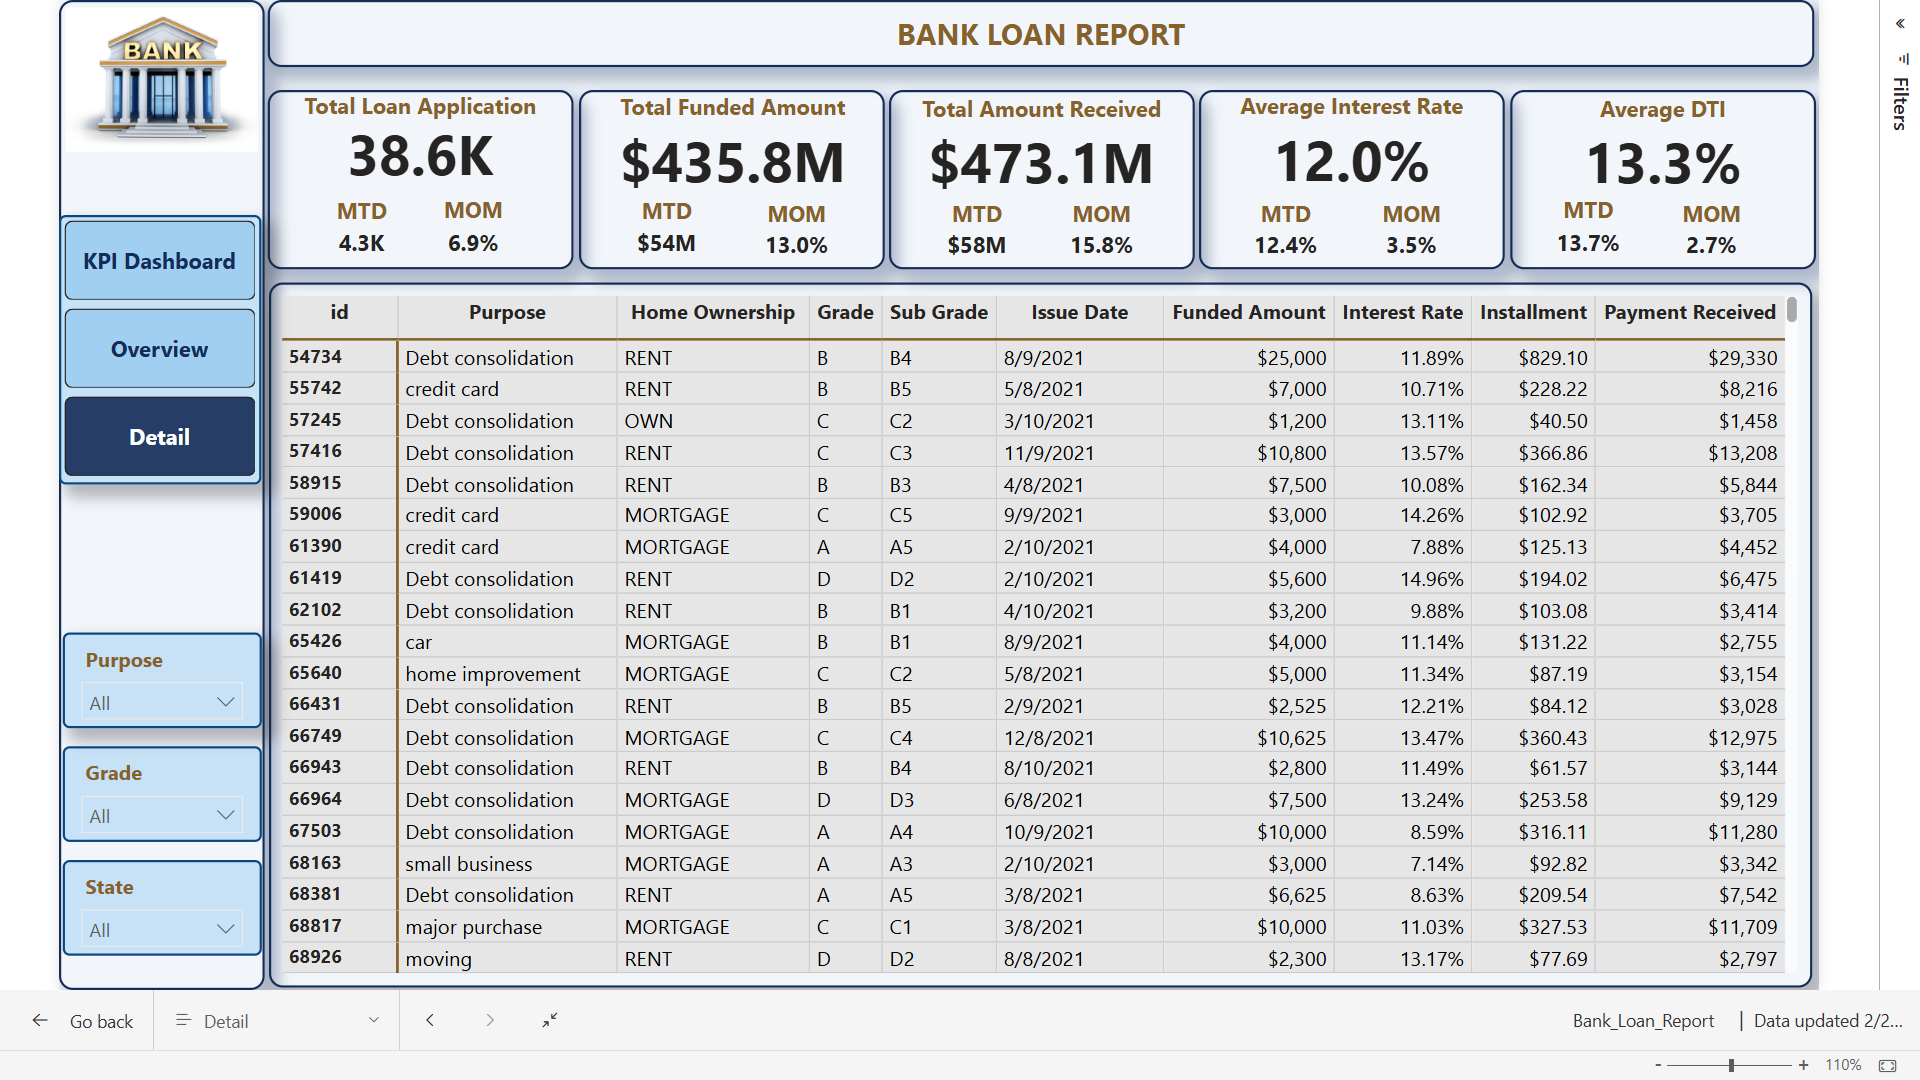

The dashboard page shown, as its layout file describes it:
{"tool":"powerbi","page":{"name":"Detail","canvas":[1280,720],"ordinal":2},"visuals":[{"type":"shape","box":[0,0,149.7,720.2],"z":0},{"type":"textbox","box":[152.1,0,1125.2,49.1],"z":1000},{"type":"image","box":[0,0,149.7,116.6],"z":2000},{"type":"shape","box":[152.1,65,222.1,130],"z":3000},{"type":"card","title":"MTD","fields":{"Values":["Measures Table.MTD"]},"box":[187.3,142.1,65.9,53],"z":4000},{"type":"card","title":"Total Loan Application","fields":{"Values":["Measures Table.Total Loan Application"]},"box":[152.1,65,222.1,69.9],"z":5000},{"type":"shape","box":[377.9,65.4,222.1,130],"z":6000},{"type":"shape","box":[603.7,65.4,222.1,130],"z":7000},{"type":"shape","box":[829.5,65.4,222.1,130],"z":8000},{"type":"shape","box":[1055.2,65.4,222.1,130],"z":9000},{"type":"card","title":"MOM","fields":{"Values":["Measures Table.MOM"]},"box":[268.7,140.8,64.6,54.2],"z":10000},{"type":"card","title":"Total Funded Amount","fields":{"Values":["Measures Table.Total Funded Amount"]},"box":[379.1,66.3,222.1,78.5],"z":11000},{"type":"card","title":"MTD","fields":{"Values":["Measures Table.MTD Total Fund Aount"]},"box":[409.4,142.1,65.9,53],"z":12000},{"type":"card","title":"MOM","fields":{"Values":["Measures Table.MOM Fund Amount"]},"box":[503.7,143.4,65.9,51.7],"z":13000},{"type":"card","title":"Total Amount Received","fields":{"Values":["Measures Table.Total Amount Recived"]},"box":[603.2,67.2,222.2,78.8],"z":14000},{"type":"card","title":"MTD","fields":{"Values":["Measures Table.MTD Total Amount Recived"]},"box":[635.5,143.4,64.6,51.7],"z":15000},{"type":"card","title":"MOM","fields":{"Values":["Measures Table.MOM Total Amount Recived"]},"box":[725.9,143.4,65.9,51.7],"z":16000},{"type":"card","title":"Average  Interest Rate","fields":{"Values":["Measures Table.Average Interest Rate"]},"box":[829.2,65.9,222.2,78.8],"z":17000},{"type":"card","title":"MTD","fields":{"Values":["Measures Table.MTD Average Interest Rate"]},"box":[860.2,143.4,64.6,51.7],"z":18000},{"type":"card","title":"MOM","fields":{"Values":["Measures Table.MOM Average Interest Rate"]},"box":[950.6,143.4,65.9,51.7],"z":19000},{"type":"card","title":"Average  DTI","fields":{"Values":["Measures Table.Average Debt-to-Income"]},"box":[1055.3,67.2,222.2,78.8],"z":20000},{"type":"card","title":"MTD","fields":{"Values":["Measures Table.MTD Average DTI"]},"box":[1079.8,140.8,64.6,54.2],"z":21000},{"type":"card","title":"MOM","fields":{"Values":["Measures Table.MOM Average DTI"]},"box":[1168.9,143.4,65.9,51.7],"z":22000},{"type":"pivotTable","title":"Loan Status","fields":{"Rows":["bank_loan.id"],"Values":["Min(bank_loan.purpose)","Min(bank_loan.home_ownership)","Min(bank_loan.grade)","Min(bank_loan.sub_grade)","Min(bank_loan.issue_date)","Sum(bank_loan.loan_amount)","Sum(bank_loan.int_rate)","Sum(bank_loan.installment)","Sum(bank_loan.total_payment)"]},"box":[152.4,205.4,1122.4,512.8],"z":23000},{"type":"slicer","fields":{"Values":["bank_loan.purpose"]},"box":[2.6,459.8,144.7,69.7],"z":24000},{"type":"slicer","fields":{"Values":["bank_loan.grade"]},"box":[2.6,542.5,144.7,69.7],"z":25000},{"type":"slicer","fields":{"Values":["bank_loan.address_state"]},"box":[2.6,625.1,144.7,69.7],"z":26000},{"type":"pageNavigator","box":[0,156.3,147.2,196.3],"z":27000}]}

Visuals, with their boxes on the page's 1280x720 design canvas (x1, y1, x2, y2). These are canvas units, not pixel positions in the 1920x1080 screenshot, which may show the page scaled, cropped or inside an application window:
shape: rect(0, 0, 150, 720)
textbox: rect(152, 0, 1277, 49)
image: rect(0, 0, 150, 117)
shape: rect(152, 65, 374, 195)
"MTD" card: rect(187, 142, 253, 195)
"Total Loan Application" card: rect(152, 65, 374, 135)
shape: rect(378, 65, 600, 195)
shape: rect(604, 65, 826, 195)
shape: rect(830, 65, 1052, 195)
shape: rect(1055, 65, 1277, 195)
"MOM" card: rect(269, 141, 333, 195)
"Total Funded Amount" card: rect(379, 66, 601, 145)
"MTD" card: rect(409, 142, 475, 195)
"MOM" card: rect(504, 143, 570, 195)
"Total Amount Received" card: rect(603, 67, 825, 146)
"MTD" card: rect(636, 143, 700, 195)
"MOM" card: rect(726, 143, 792, 195)
"Average  Interest Rate" card: rect(829, 66, 1051, 145)
"MTD" card: rect(860, 143, 925, 195)
"MOM" card: rect(951, 143, 1016, 195)
"Average  DTI" card: rect(1055, 67, 1278, 146)
"MTD" card: rect(1080, 141, 1144, 195)
"MOM" card: rect(1169, 143, 1235, 195)
"Loan Status" pivotTable: rect(152, 205, 1275, 718)
slicer - bank_loan.purpose: rect(3, 460, 147, 530)
slicer - bank_loan.grade: rect(3, 542, 147, 612)
slicer - bank_loan.address_state: rect(3, 625, 147, 695)
pageNavigator: rect(0, 156, 147, 353)
